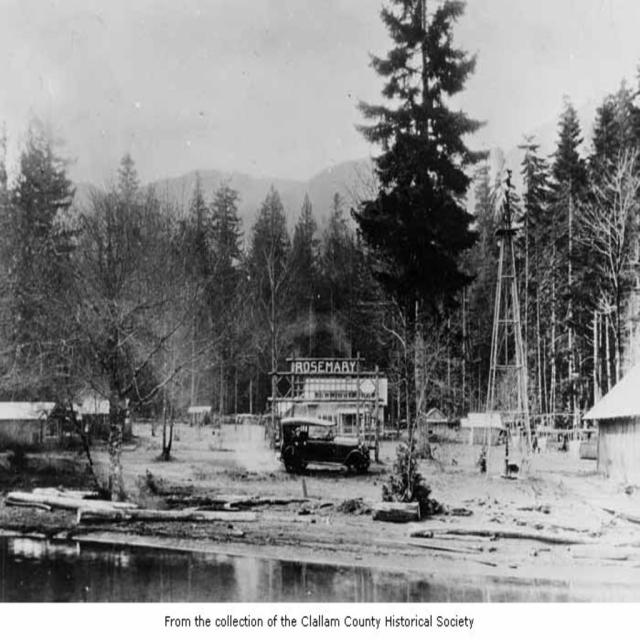car: (273, 412, 371, 475)
